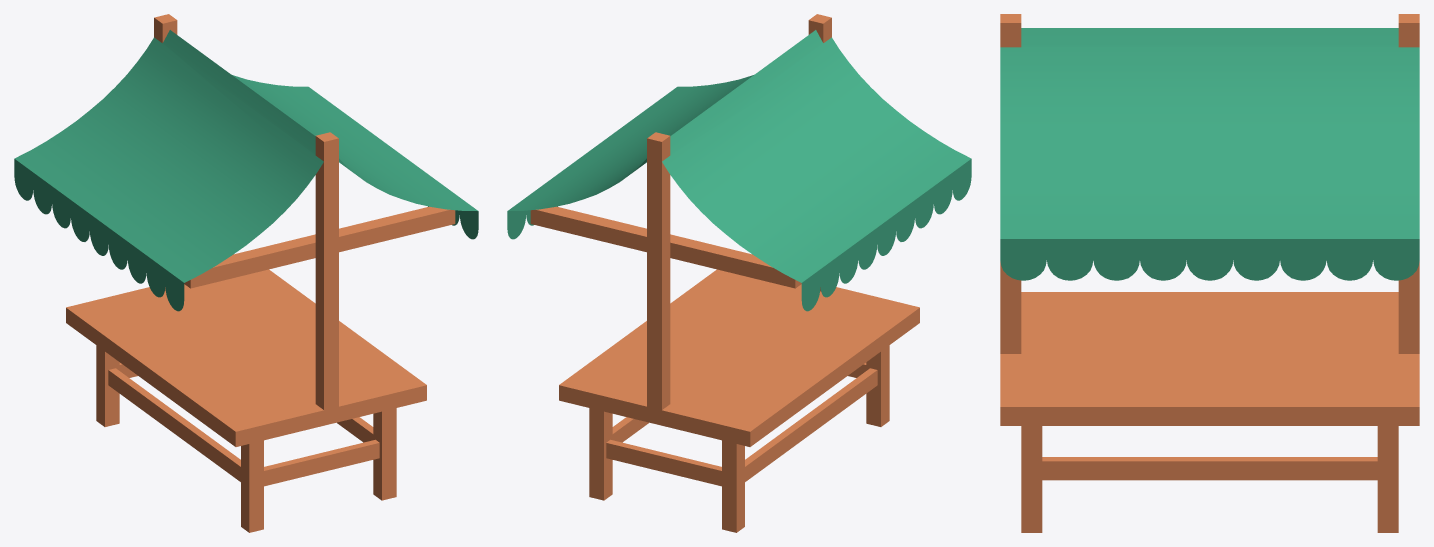
The model's file is stallGreen.obj.
The picture shows the model from 3 angles, left to right: view 1: azimuth 30°, elevation 25°; view 2: azimuth 150°, elevation 25°; view 3: azimuth 270°, elevation 25°; orthographic projection. The views are drawn at different scales.
Parts seen in each view (by area): view 1: stallGreen; view 2: stallGreen; view 3: stallGreen.
Part boxes in pixels (x1,y1,x2,y2): stallGreen: [14, 14, 478, 532]; stallGreen: [507, 14, 971, 532]; stallGreen: [1000, 14, 1419, 532].
Bounding box in the file's own units: 1 × 1.24 × 1.
